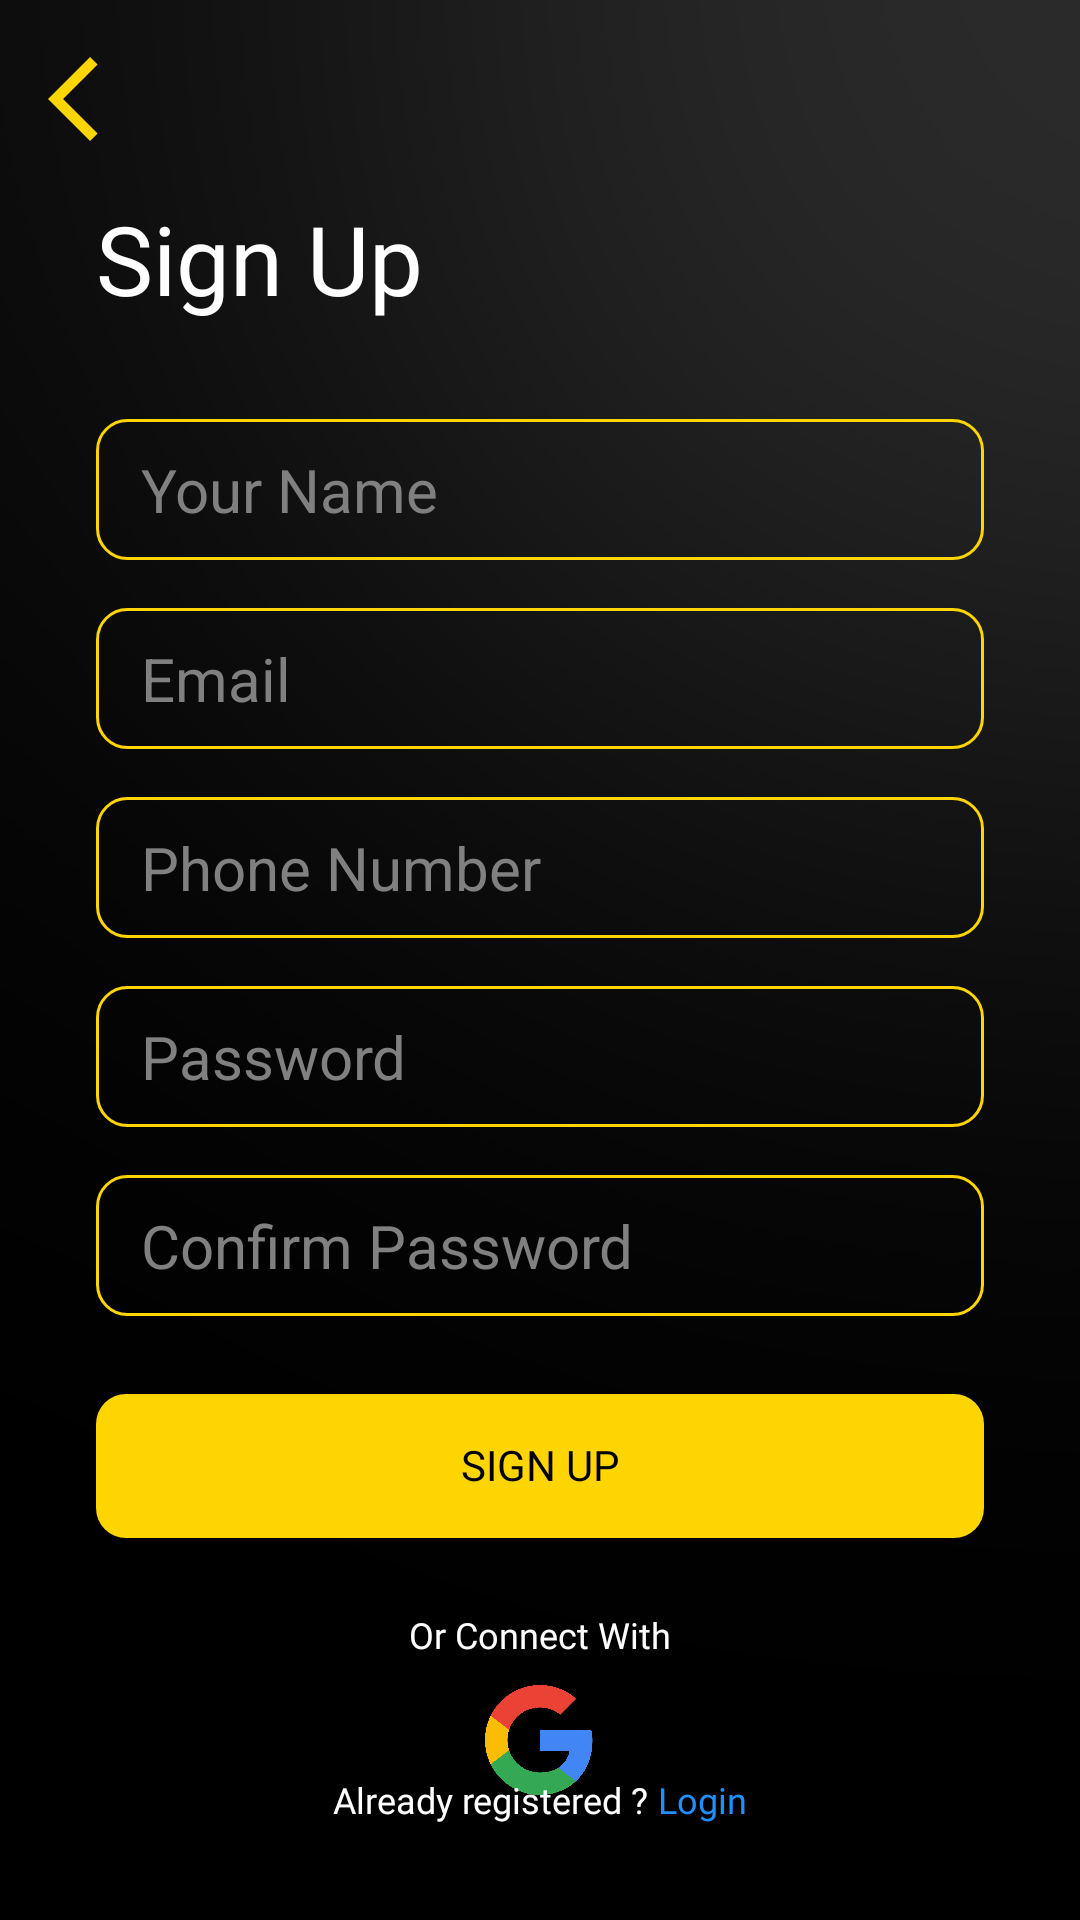

Icon bounding boxes for this 1080px x 1920px phone screenshot, format (left=x1, top=y1, right=x2, bottom=y2):
back: (left=48, top=57, right=98, bottom=141)
